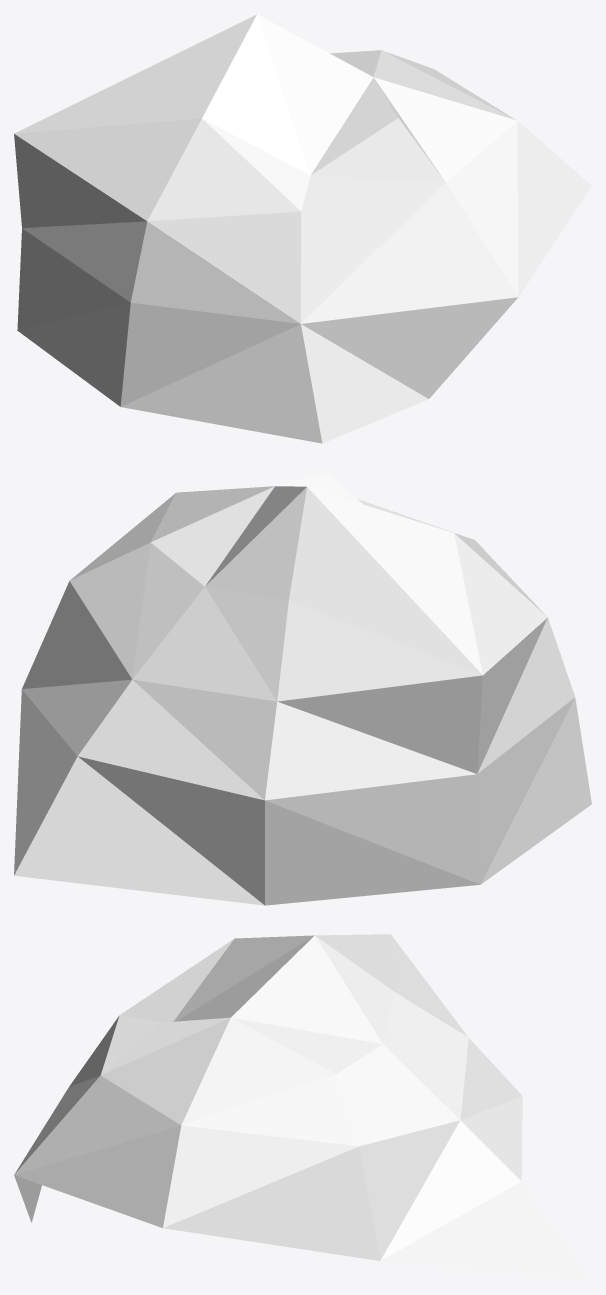
File: Syrup.obj
The picture shows the model from 3 angles, top to bottom: view 1: azimuth 30°, elevation 25°; view 2: azimuth 150°, elevation 25°; view 3: azimuth 270°, elevation 25°; orthographic projection. The views are drawn at different scales.
Visible parts, largest first — view 1: syrup; view 2: syrup; view 3: syrup.
Boxes of the visible parts, x1,y1,x2,y2 form: syrup: (14,14,591,443); syrup: (14,472,591,905); syrup: (14,934,591,1280).
Size of the model in its own units: 0.3522 by 0.2198 by 0.3947.
Materials: 1 (1 with a texture image).
